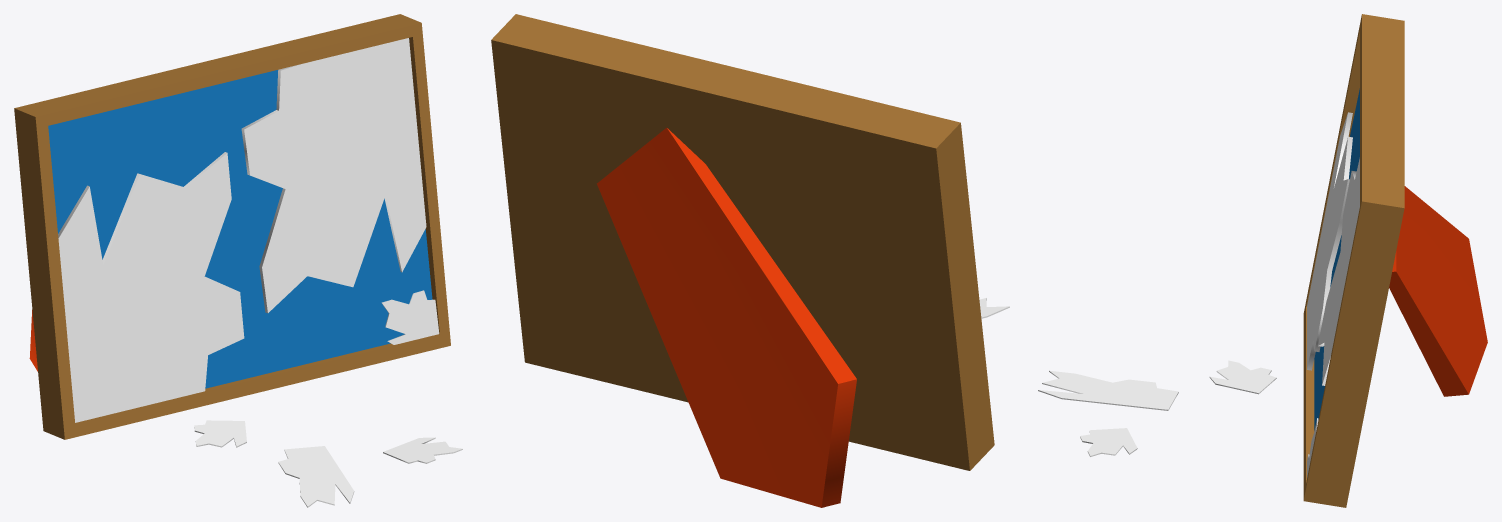
Rendered from PictureFrameExported.fbx.
3 views of the same model, side by side, from view 1: azimuth 30°, elevation 25°; view 2: azimuth 150°, elevation 25°; view 3: azimuth 270°, elevation 25° (orthographic). The views are drawn at different scales.
Parts seen in each view (by area): view 1: Plane001, Box003, Box004, Box001, Box008, Box005, Box007, Box006; view 2: Box001, Box002; view 3: Box001, Box002, Box003, Box008, Box004, Plane001, Box006, Box007.
Boxes of the visible parts, x1,y1,x2,y2 form: Plane001: (48,70,432,388); Box003: (58,152,244,422); Box004: (241,38,426,313); Box001: (14,14,450,439); Box008: (278,446,354,507); Box005: (381,290,439,344); Box007: (383,437,462,463); Box006: (194,420,246,447); Box001: (491,14,994,470); Box002: (597,127,856,507); Box001: (1303,14,1404,507); Box002: (1389,186,1487,396); Box003: (1307,112,1352,370); Box008: (1038,370,1178,410); Box004: (1318,157,1359,385); Plane001: (1314,88,1359,430); Box006: (1209,360,1276,394); Box007: (1080,428,1137,456).
Bounding box in the file's own units: 45.18 × 34.8 × 45.83.
